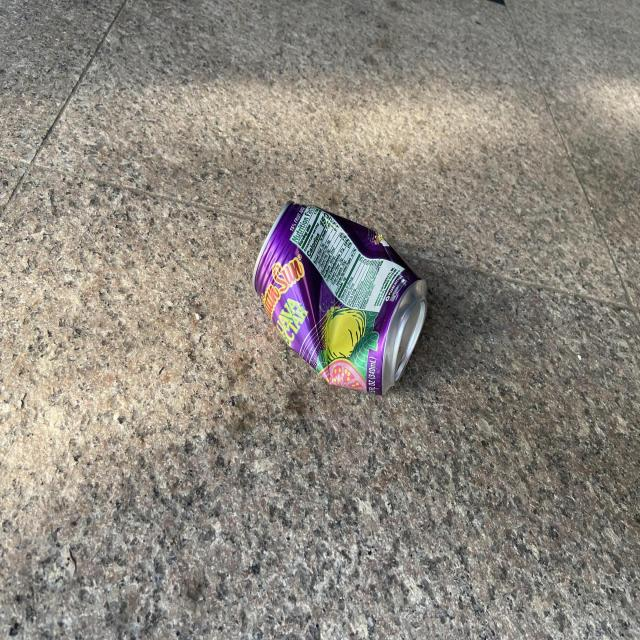can: (253, 201, 428, 394)
